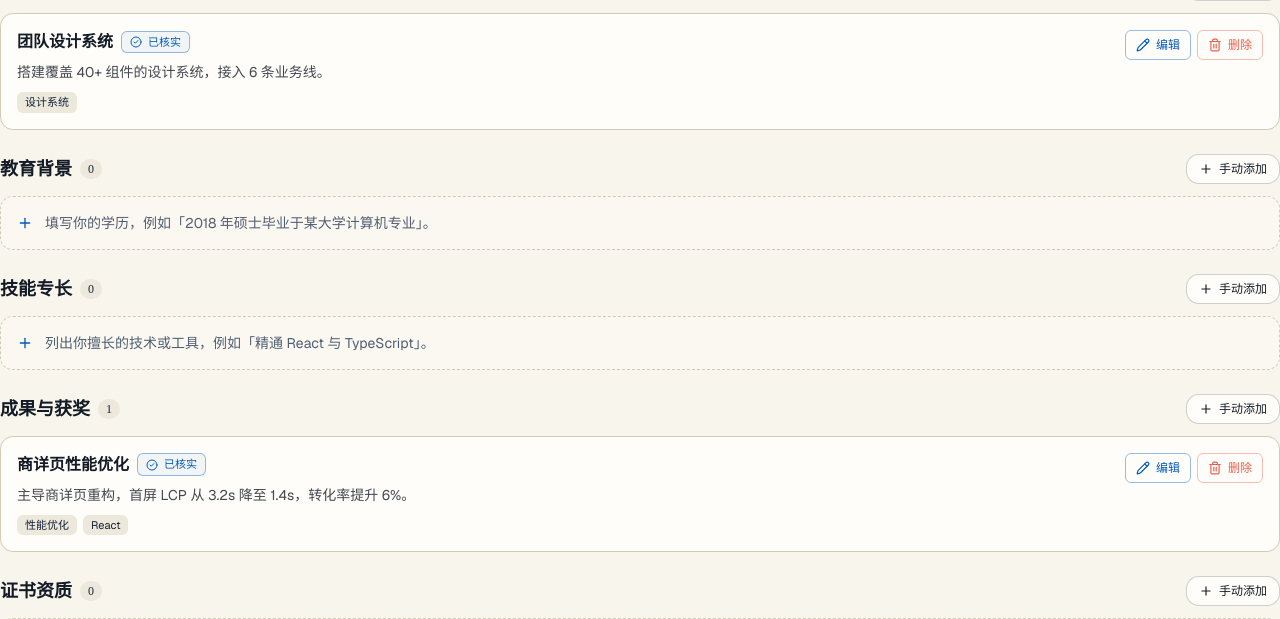
Test case: ProfileWorkspace 直接编辑 › 可直接修正已有事实
This screenshot has width=1280, height=619.
(page scrolled)
Click the button with aria-label "编辑「商详页性能优化」": (1158, 468) [1125,452,1191,482]
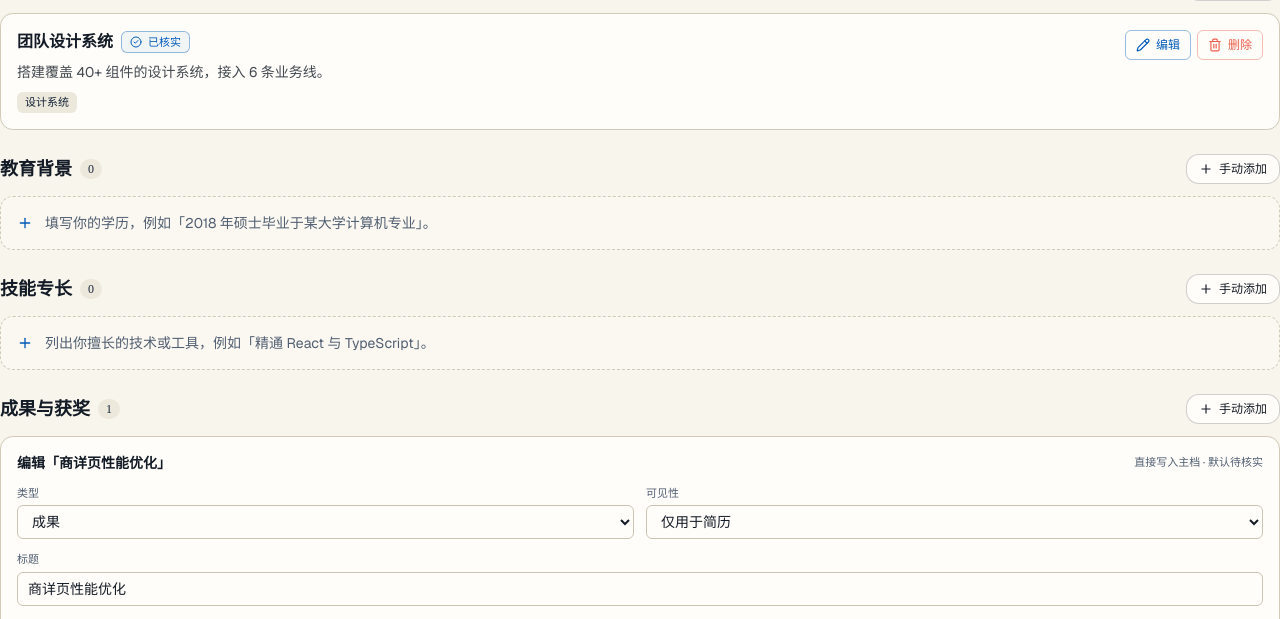
Replace the text in the field labelled "标题" with "商详页性能优化（复核）": (640, 588) [17,572,1263,606]
(page scrolled)
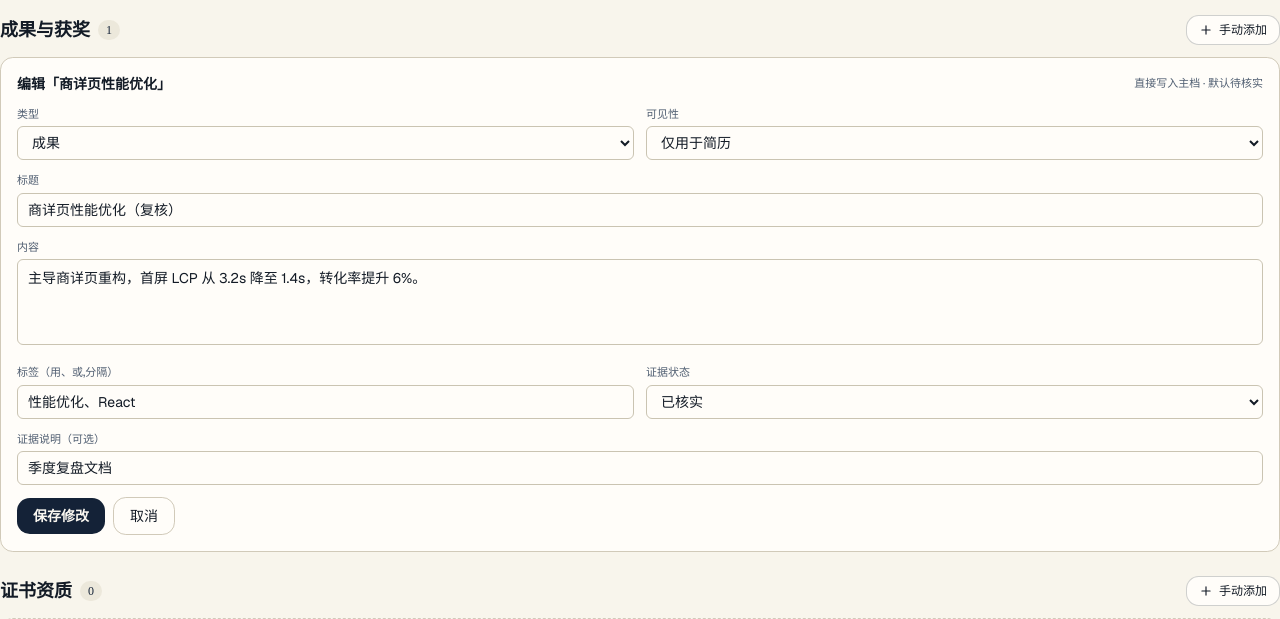
Click the button "保存修改": (61, 516) [17,498,105,534]
(page scrolled)
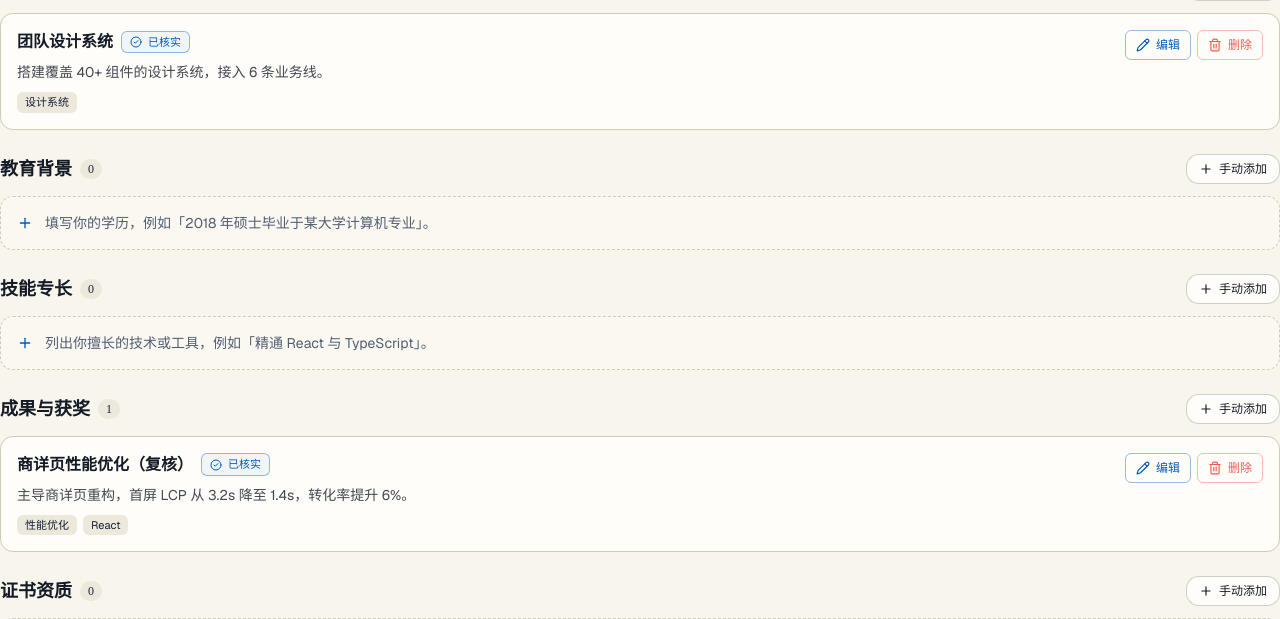
Check: the heading "商详页性能优化（复核）" is shown, box [17,452,193,476]
